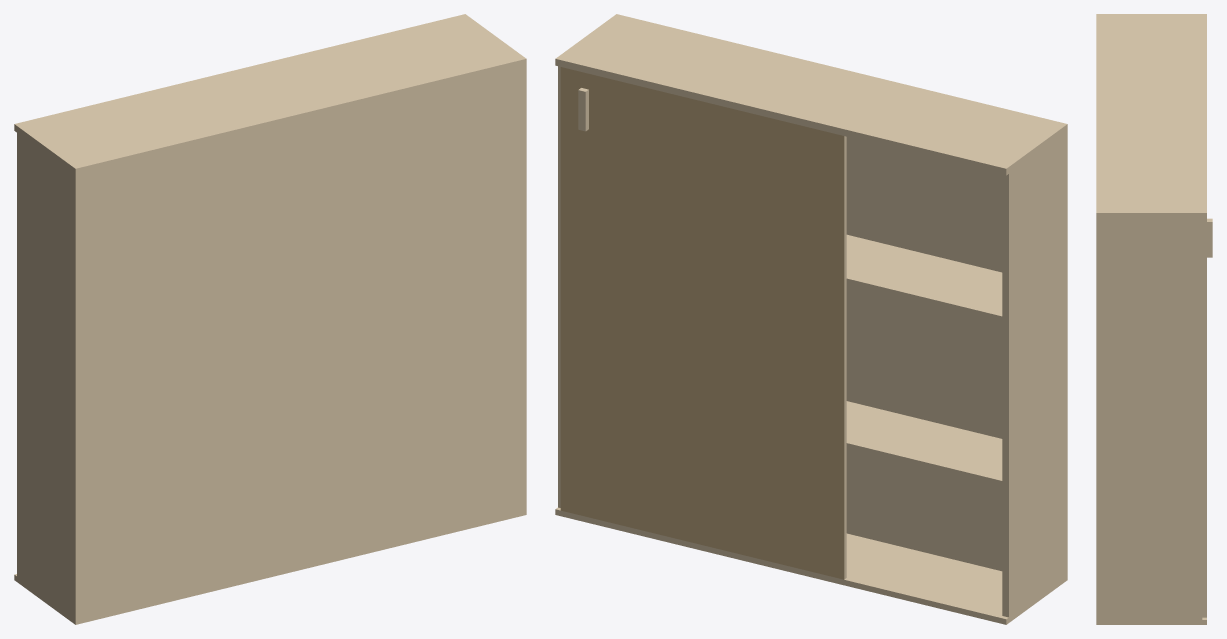
Rendered from Closet_Type_2.fbx.
3 views of the same model, side by side, from view 1: azimuth 30°, elevation 25°; view 2: azimuth 150°, elevation 25°; view 3: azimuth 270°, elevation 25° (orthographic). The views are drawn at different scales.
Parts seen in each view (by area): view 1: Closer_Type_2.002; view 2: Closer_Type_2.002; view 3: Closer_Type_2.002.
Boxes of the visible parts, x1,y1,x2,y2 form: Closer_Type_2.002: (14,14,526,624); Closer_Type_2.002: (555,14,1067,624); Closer_Type_2.002: (1096,14,1212,624).
Bounding box in the file's own units: 104 × 101 × 25.75.
